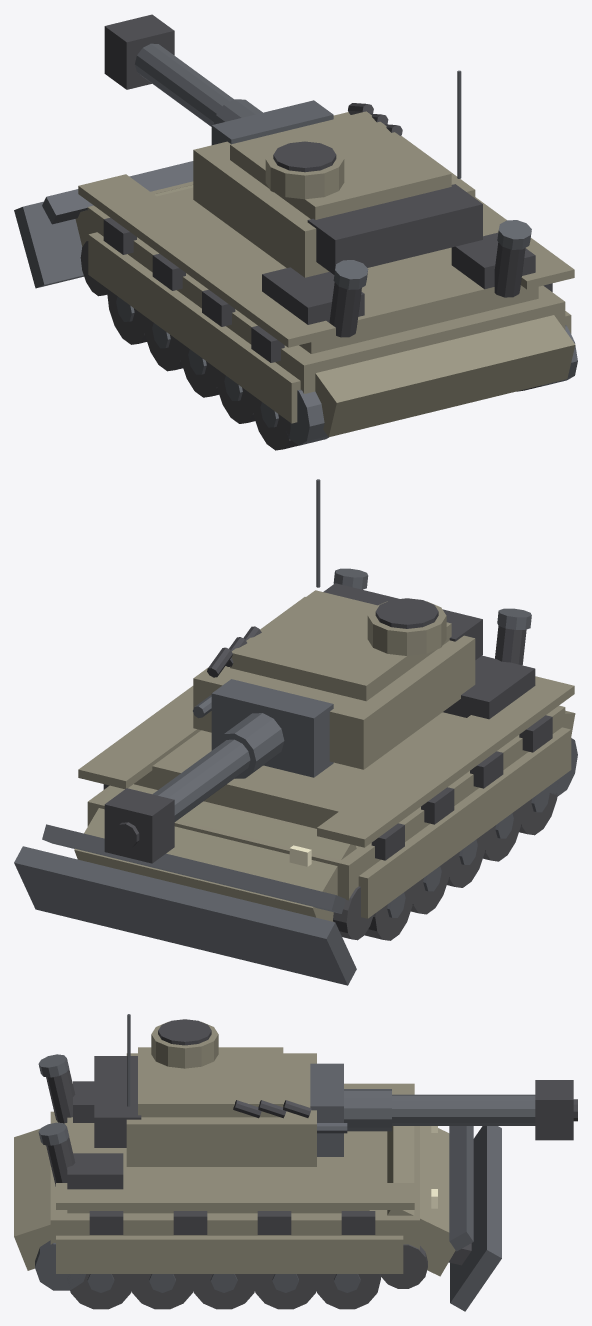
File: tank_mamut.glb
The picture shows the model from 3 angles, top to bottom: view 1: azimuth 30°, elevation 25°; view 2: azimuth 150°, elevation 25°; view 3: azimuth 270°, elevation 25°; orthographic projection. The views are drawn at different scales.
Parts seen in each view (by area): view 1: TankHull_mamut, TankTurret_mamut; view 2: TankHull_mamut, TankTurret_mamut; view 3: TankHull_mamut, TankTurret_mamut.
Part boxes in pixels (x1=…): TankHull_mamut: x1=14, y1=161, x2=577, y2=450; TankTurret_mamut: x1=104, y1=14, x2=482, y2=277; TankHull_mamut: x1=14, y1=568, x2=577, y2=985; TankTurret_mamut: x1=104, y1=479, x2=482, y2=863; TankHull_mamut: x1=14, y1=1054, x2=501, y2=1311; TankTurret_mamut: x1=94, y1=1014, x2=577, y2=1166.
Bounding box in the file's own units: 2.75 × 2.64 × 5.04.
